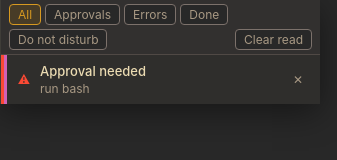
Scenario: F41: empty state text reflects the active filter
Click the button "Errors". click: (150,14)
box: [124,4,176,25]
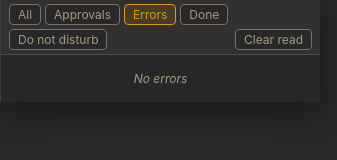
Check: the list item "No errors" is shown, box [134,71,187,86]
Click the button "Done". click: (204,14)
box: [180,4,228,25]
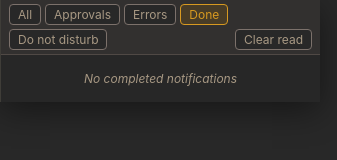
Check: the list item "No completed notifications" is shown, box [84,71,237,86]
